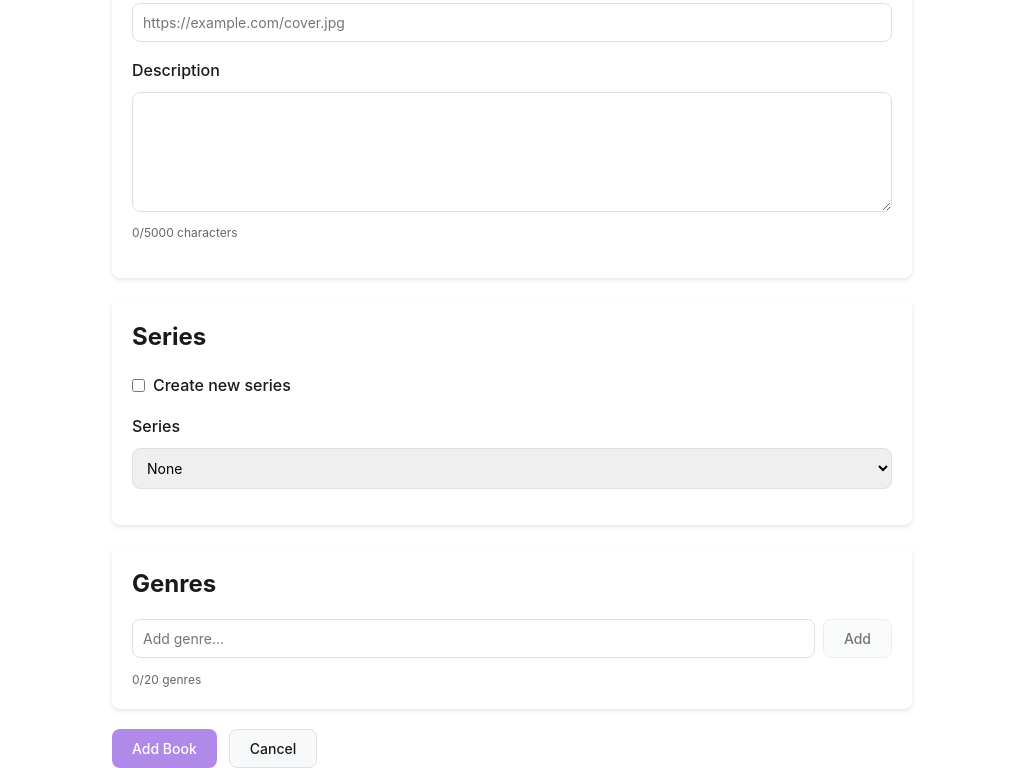
Test: AddBook › Series functionality › should show position input when series is selected
(page scrolled)
Expected: the field labelled "Position in Series" is not shown
# Select a series - use querySelector to avoid ambiguity with heading
Select "Test Series by Series Author" in the dropdown with id "seriesId" at (512, 468), box [132,448,892,489]
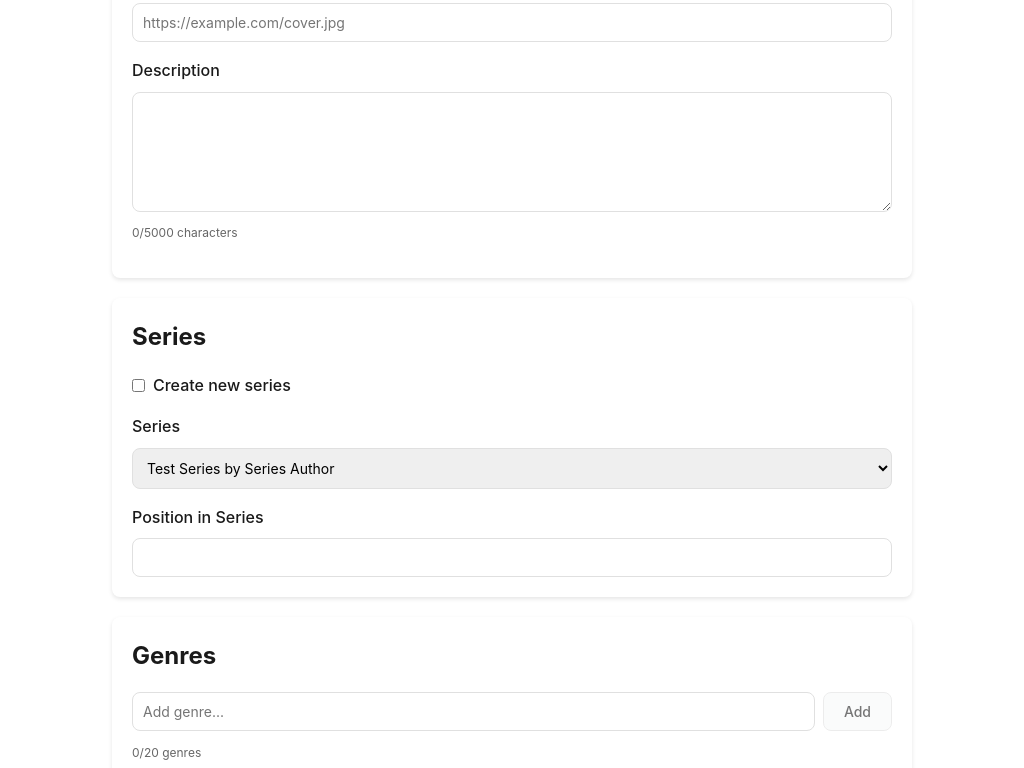
Now the number field labelled "Position in Series" is shown, box [132,538,892,578]
